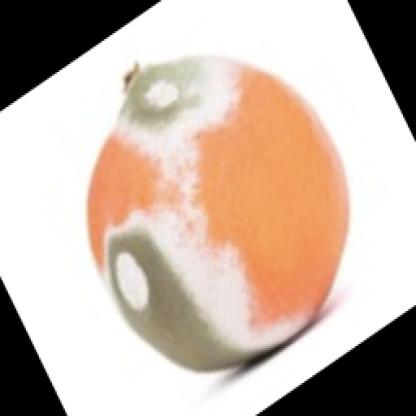rotten: (89, 54, 353, 370)
